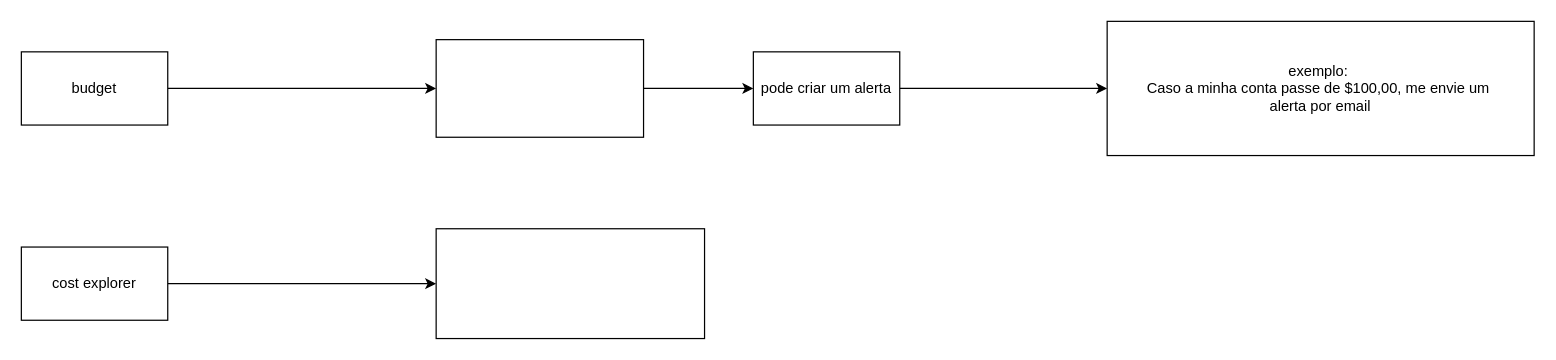
Some shapes in this 1556 by 360 pixel diagram are drawn without their labels. Here are the shapes that lost their labels. From the top down, the centre of each, then its label:
At pixel 539 87: "antes de utiliazr a AWS, é o orçamento dos serviços que você irá utilizar".
At pixel 570 283: "depois de utilizar os serviços AWS (relatório de quanto você utilizou)".
